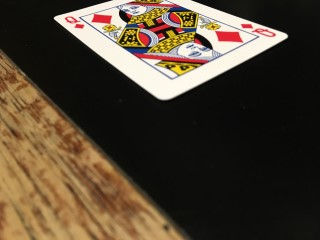QueenOfDiamonds: (54, 1, 288, 100)
